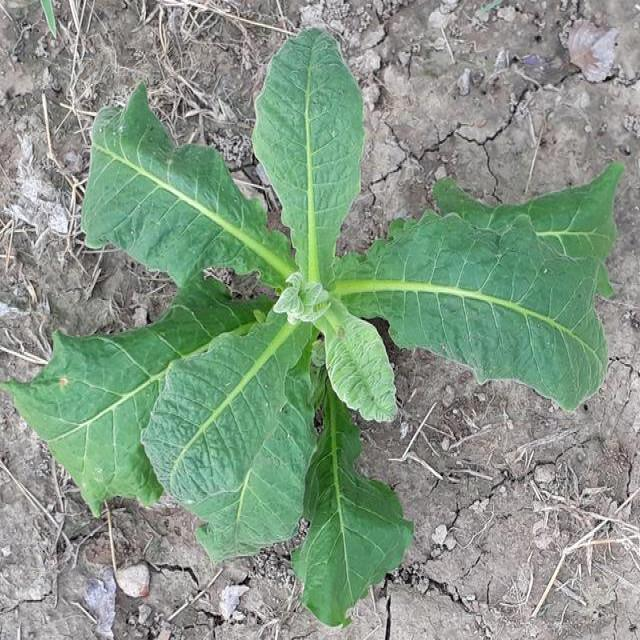crop: (6, 36, 611, 630)
